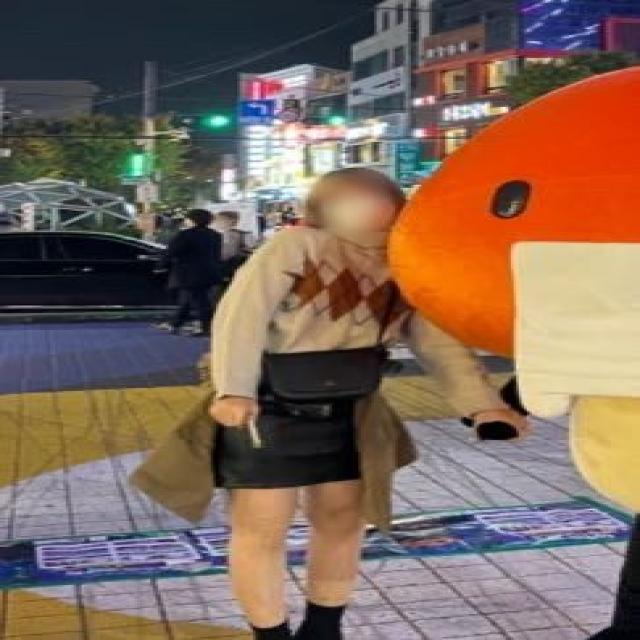skirt: (211, 346, 380, 491)
sweater: (211, 214, 508, 419)
